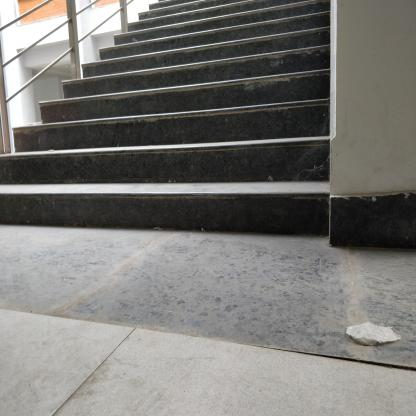stairs: (135, 10, 326, 246)
